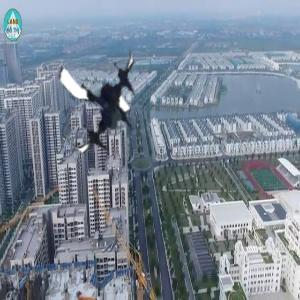drone: (40, 36, 158, 154)
